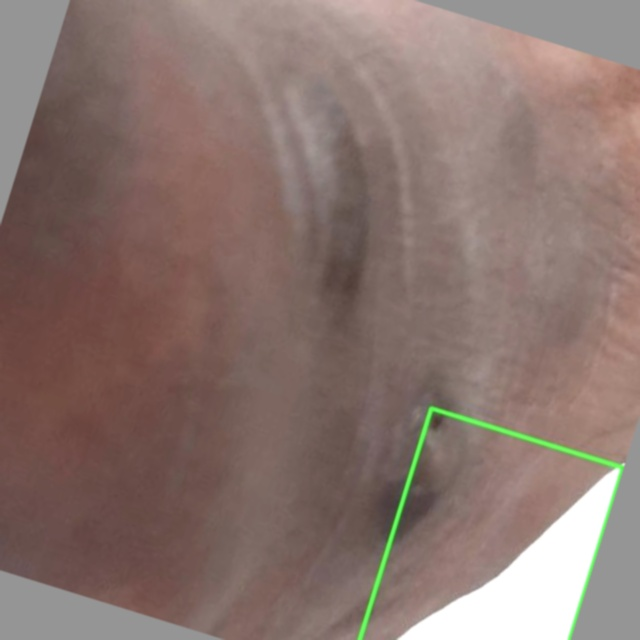Eczema: (359, 408, 623, 639)
